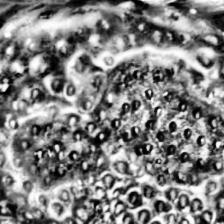Anthracnose Fruit Rot: (4, 55, 224, 189)
